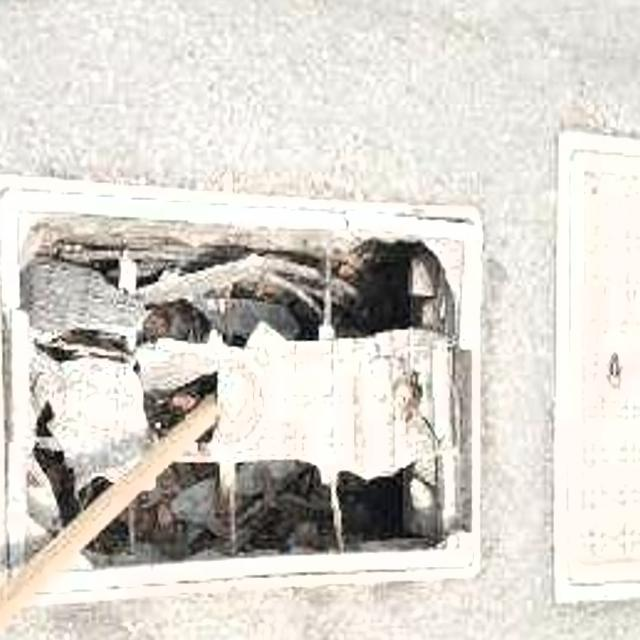broke: (0, 186, 488, 603)
good: (552, 132, 640, 606)
